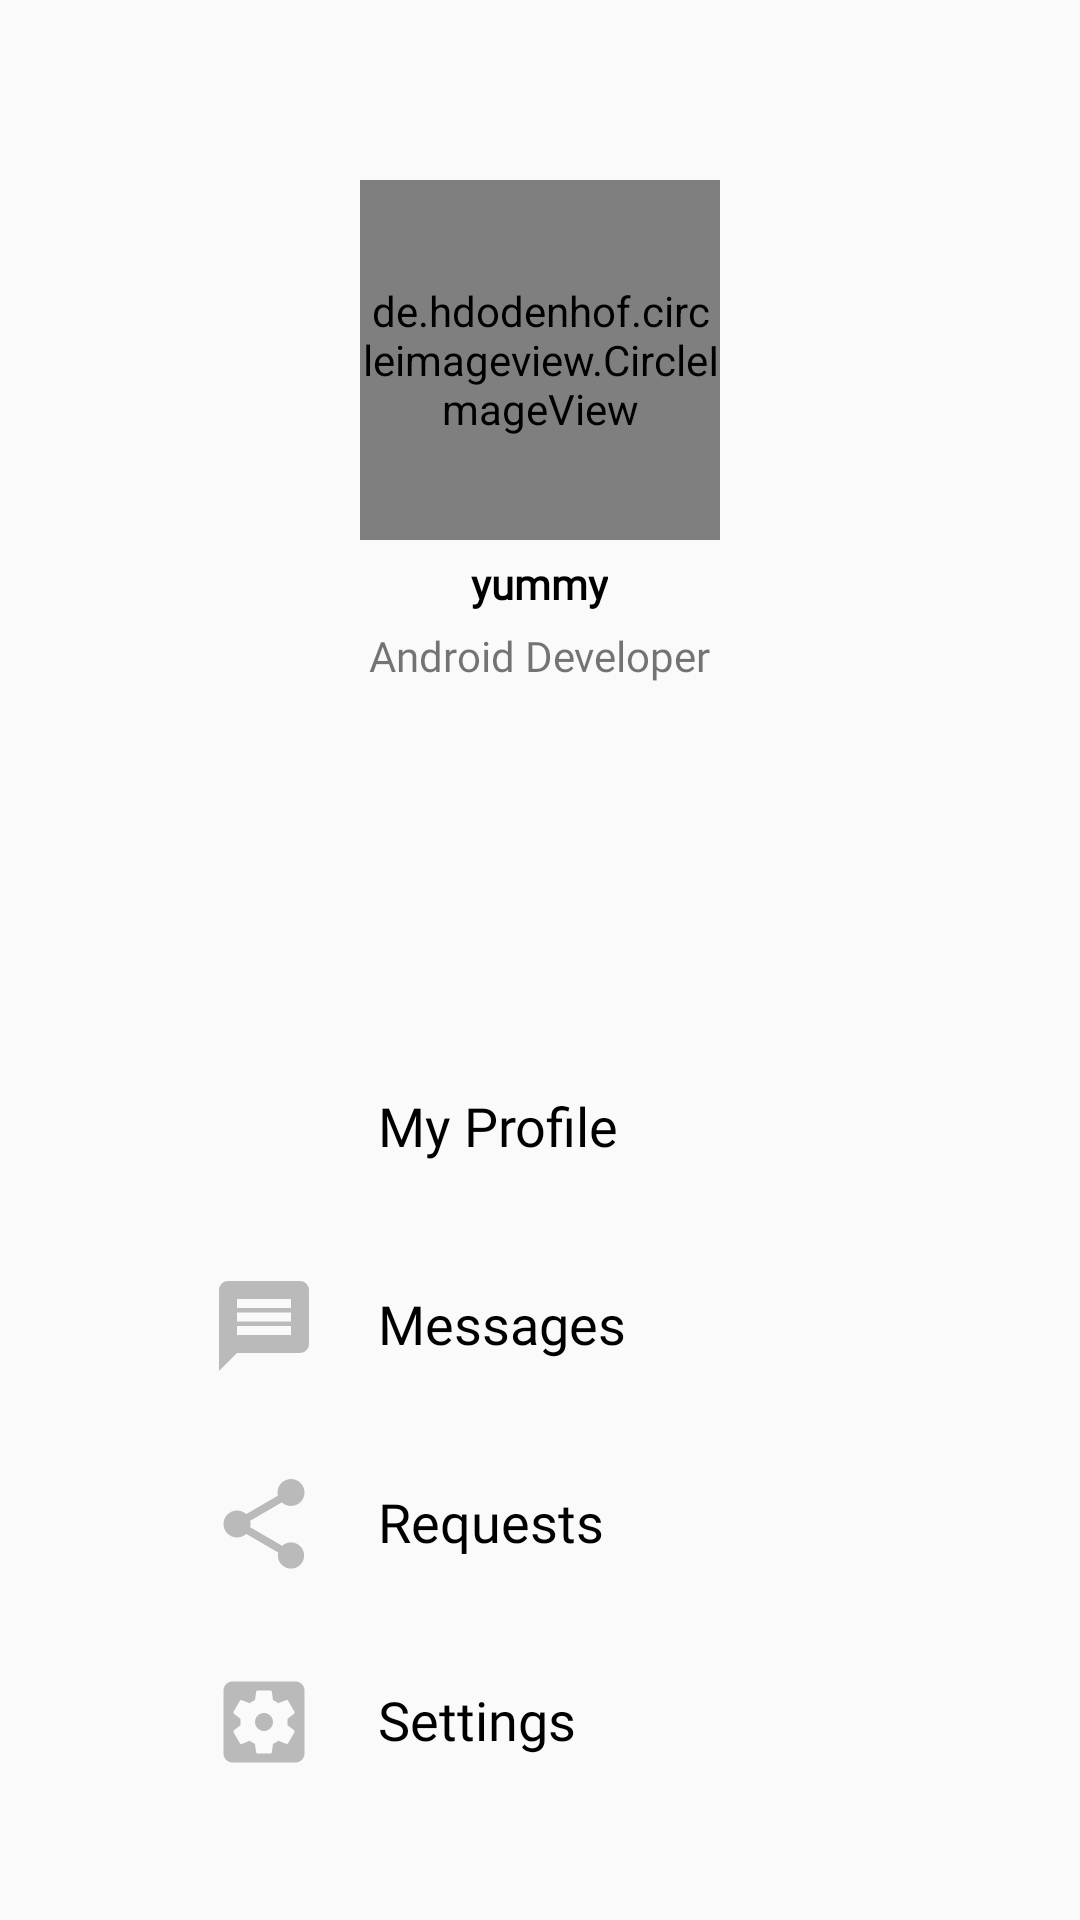

Named icons in this screenshot (1080 × 1920) and their bounding boxes, (left=x1, top=y1, right=x2, bottom=y2):
share: (left=223, top=1479, right=305, bottom=1569)
